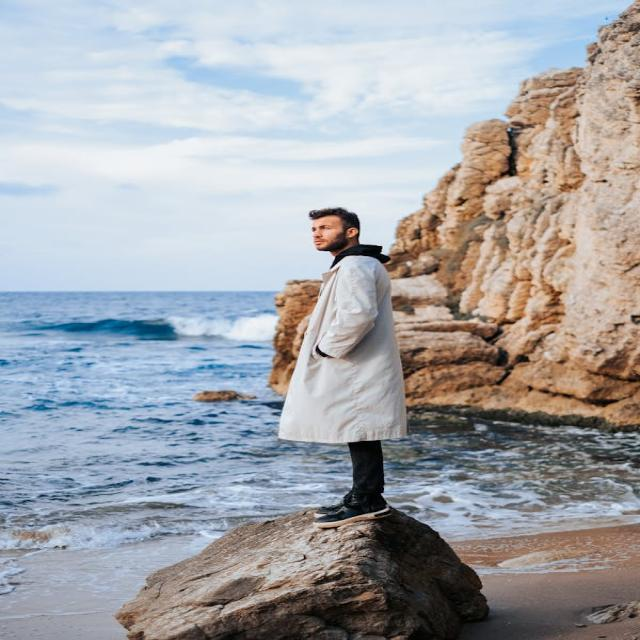Real human 2: (267, 194, 427, 541)
